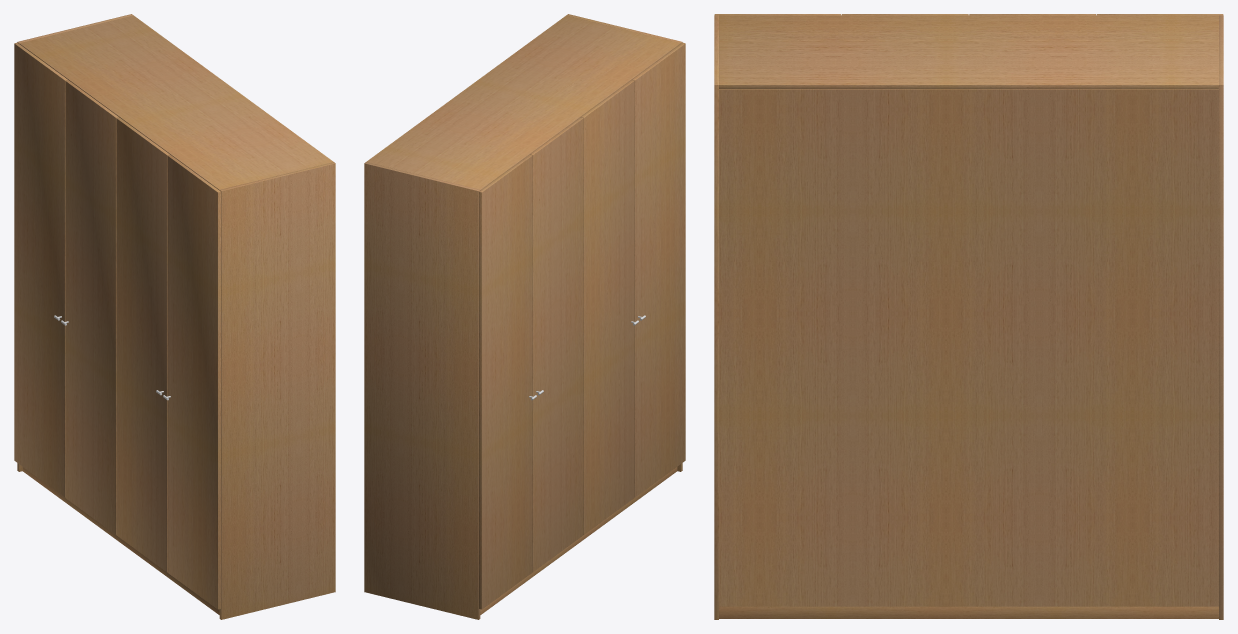
Rendered from recOEwWLKS9up1CYd.glb.
The picture shows the model from 3 angles, left to right: view 1: azimuth 30°, elevation 25°; view 2: azimuth 150°, elevation 25°; view 3: azimuth 270°, elevation 25°; orthographic projection. The views are drawn at different scales.
Visible parts, largest first — view 1: Armoire_Degagement_Corps; view 2: Armoire_Degagement_Corps; view 3: Armoire_Degagement_Corps.
Boxes of the visible parts, x1=… form: Armoire_Degagement_Corps: x1=14, y1=14, x2=335, y2=619; Armoire_Degagement_Corps: x1=364, y1=14, x2=685, y2=619; Armoire_Degagement_Corps: x1=714, y1=14, x2=1223, y2=619.
Bounding box in the file's own units: 0.7222 × 2.4 × 2.07.
Materials: 2 (1 with a texture image).
